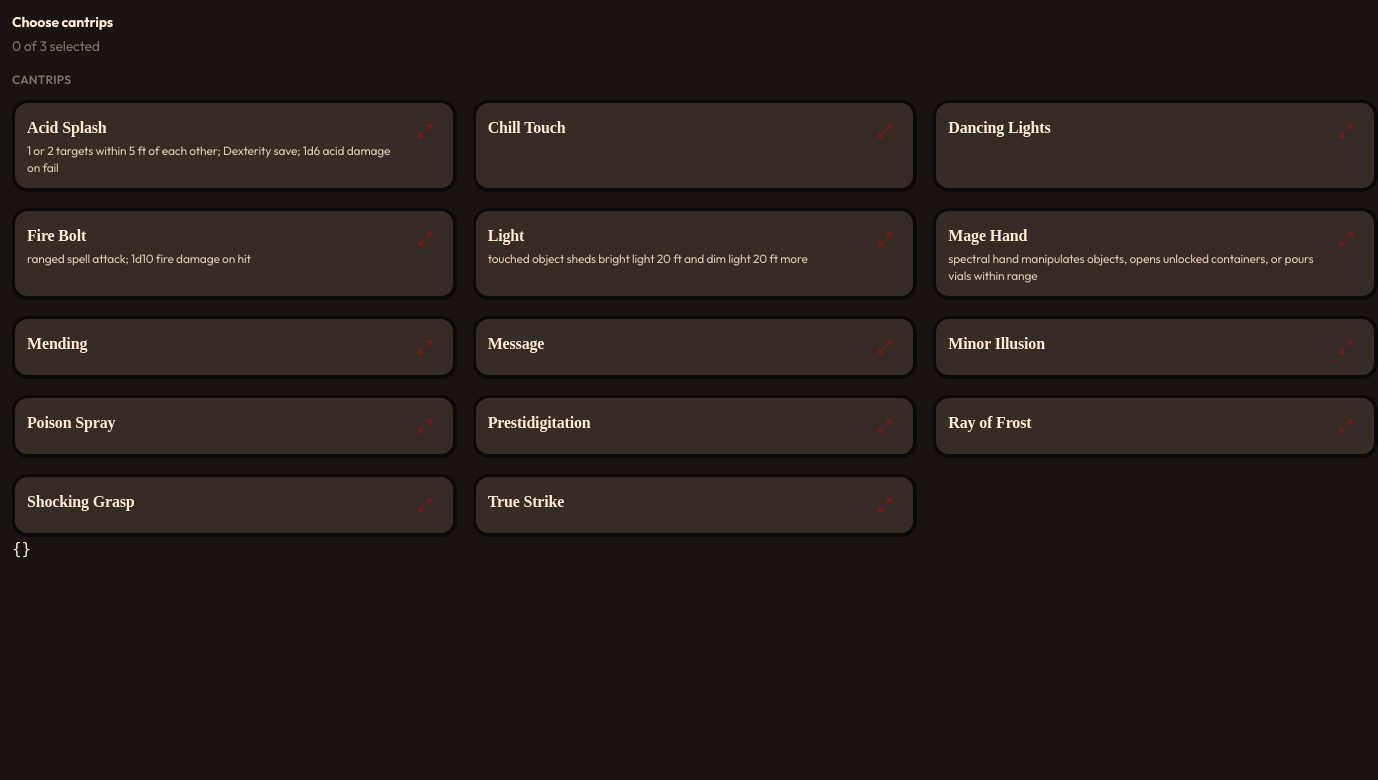
Test case: SpellChoiceGrid › shows one cantrip pool and toggles multi-select into grantPicks
Expected: the text "0 of 3 selected" is shown, [12,37,100,55]
Expected: the heading "Cantrips" is shown, [12,72,71,87]
Click the button "Fire Bolt ranged spell attack; 1d10 fire damage on hit" at (57, 236), box [27,223,401,268]
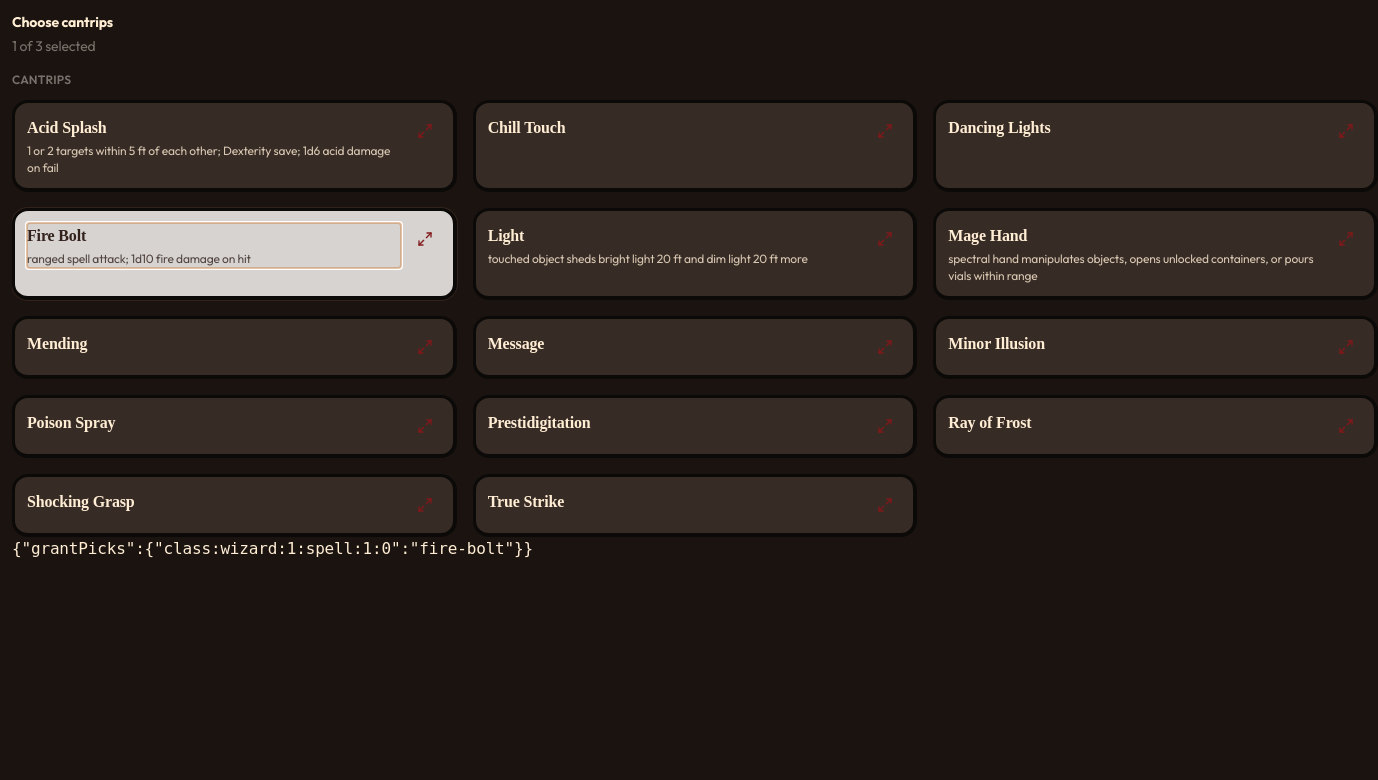
Click the button "Mage Hand" at (1135, 254), box [948,223,1322,284]
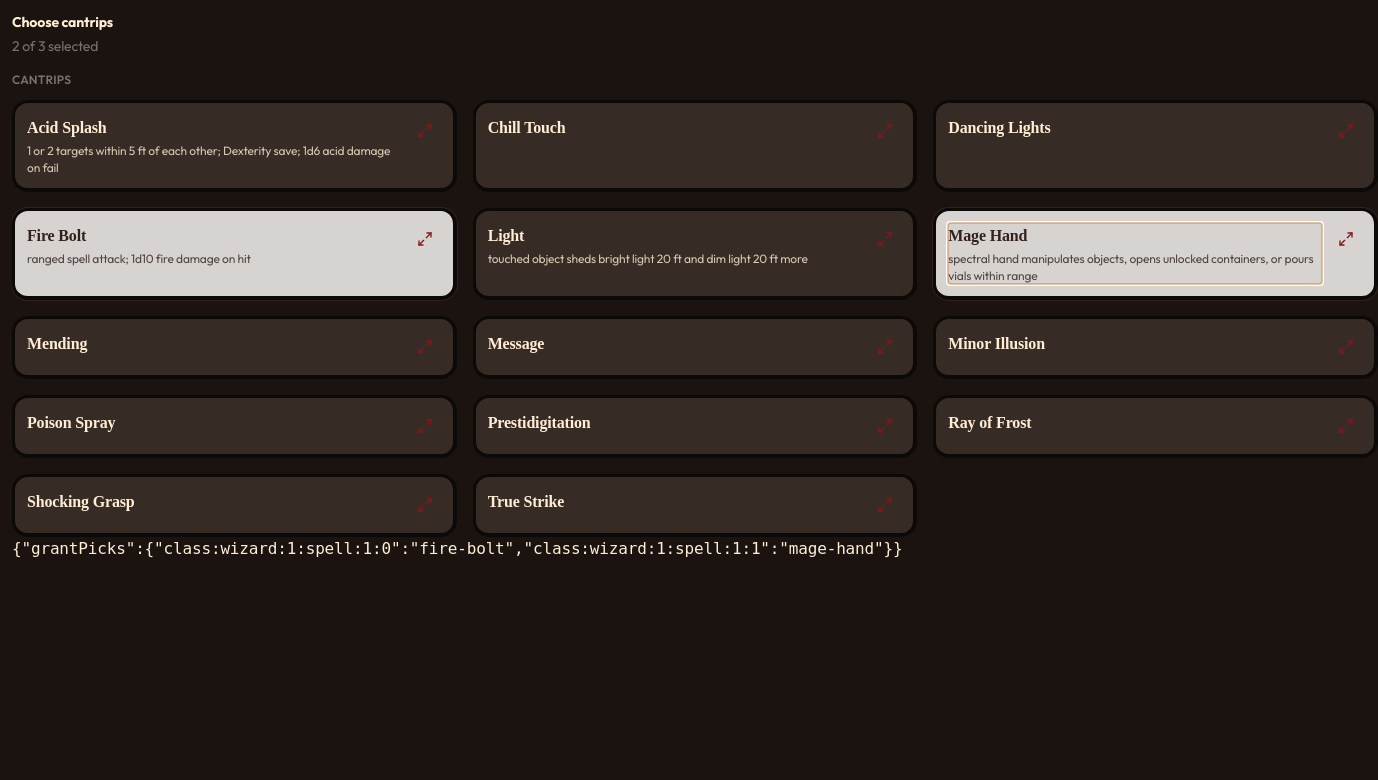
Click the button that starts with "Light" at (506, 236), box [488,223,861,268]
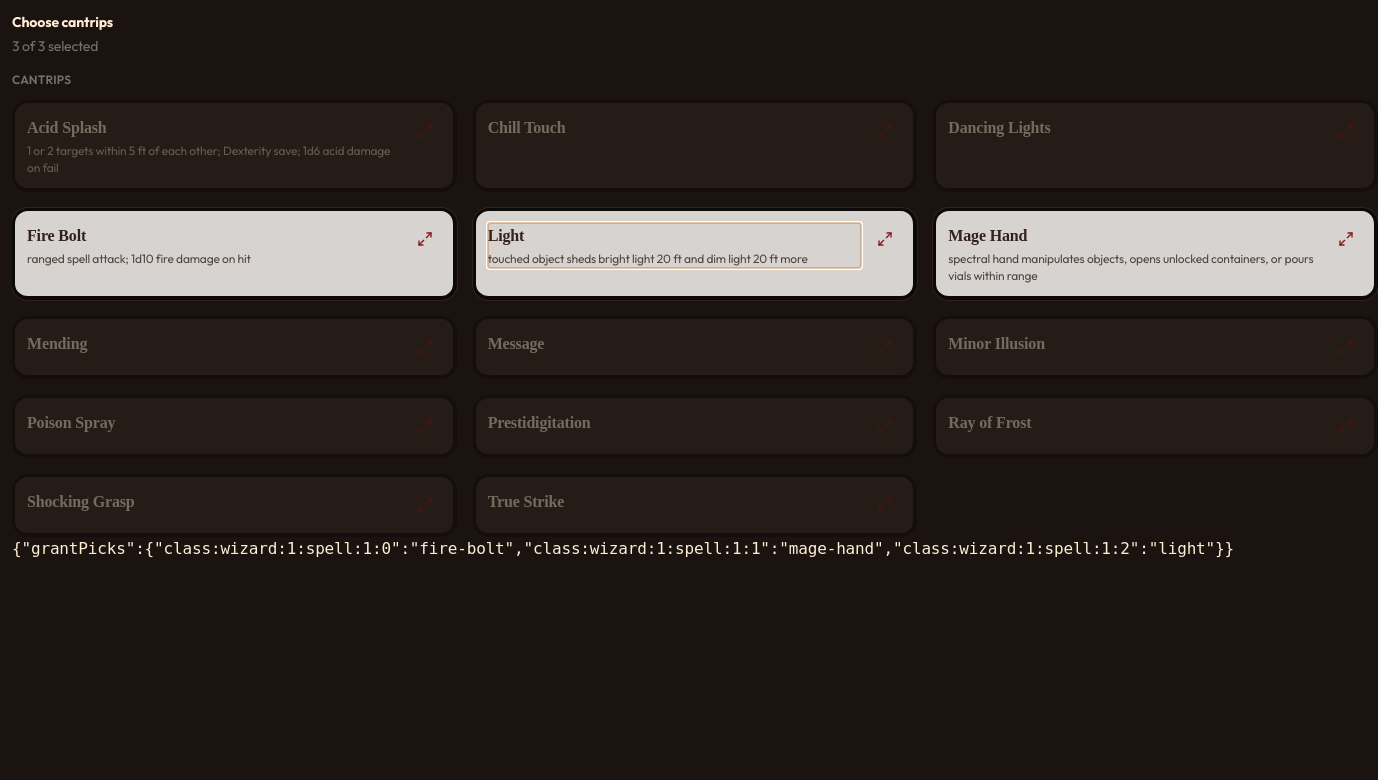
Result: the text "3 of 3 selected" is shown at [12,37,98,55]
Result: the button "Acid Splash" is disabled
Click the button "Acid Splash" at (214, 146), box [27,115,401,176]
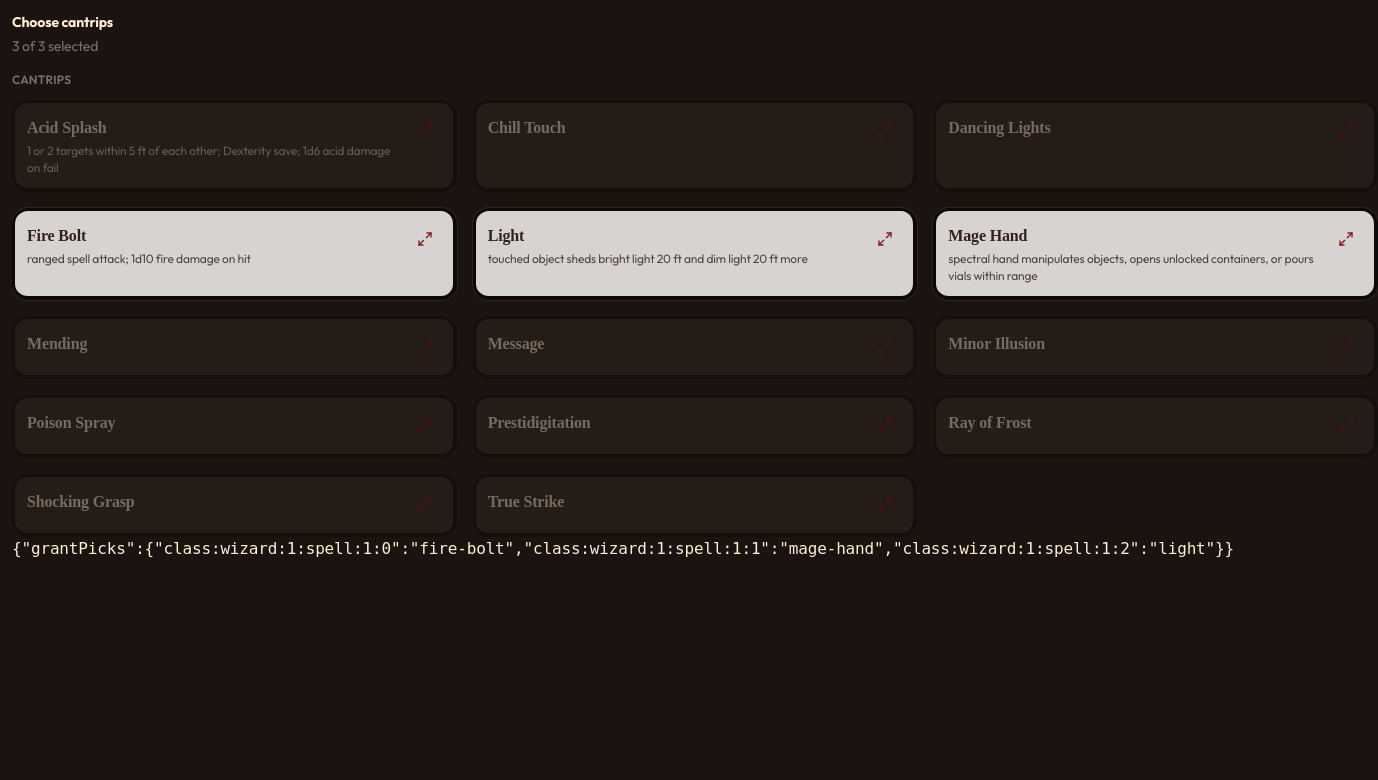
Click the button "Fire Bolt ranged spell attack; 1d10 fire damage on hit" at (57, 236), box [27,223,401,268]
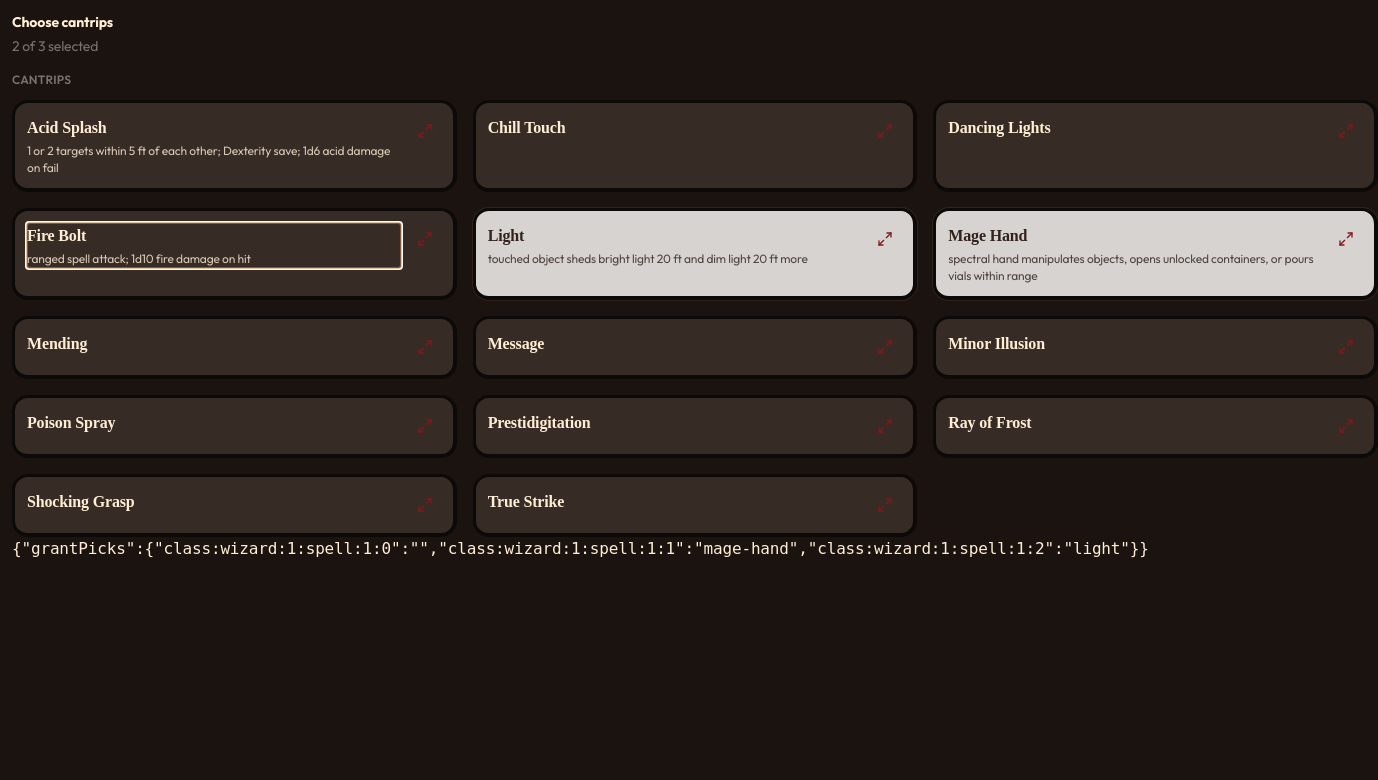
Result: the text "2 of 3 selected" is shown at [12,37,98,55]
Result: the button "Acid Splash" is enabled at [27,115,401,176]
